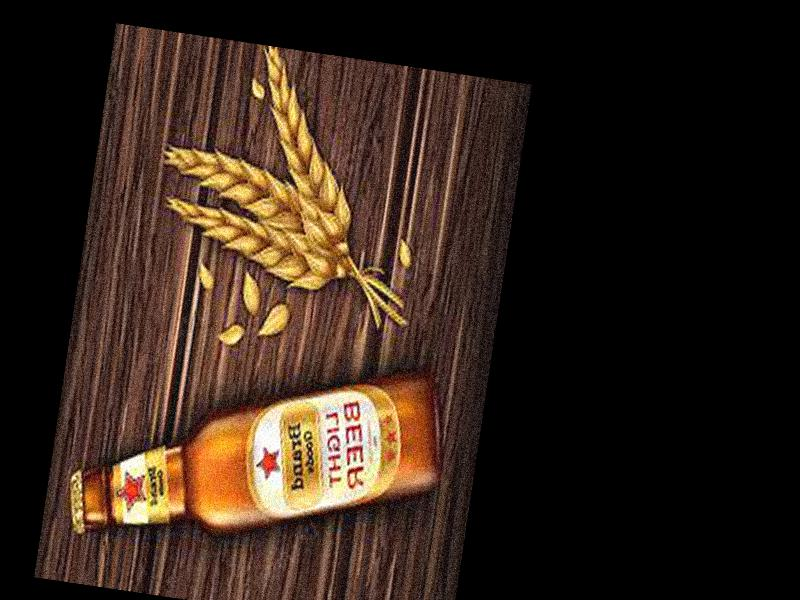Beer: (61, 324, 452, 587)
